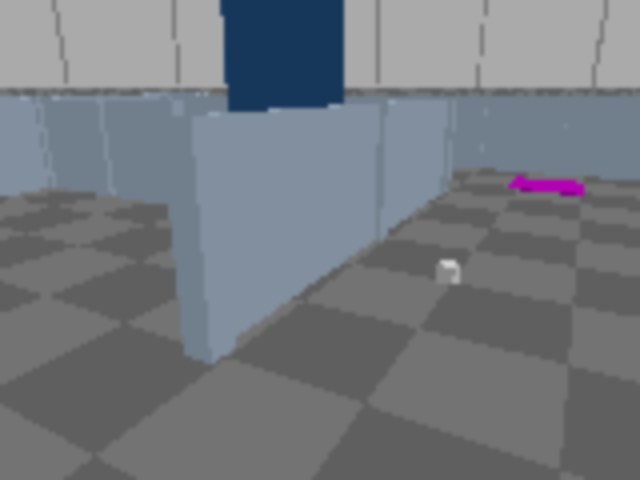goal_zone: (507, 177, 584, 196)
puck: (435, 259, 462, 286)
